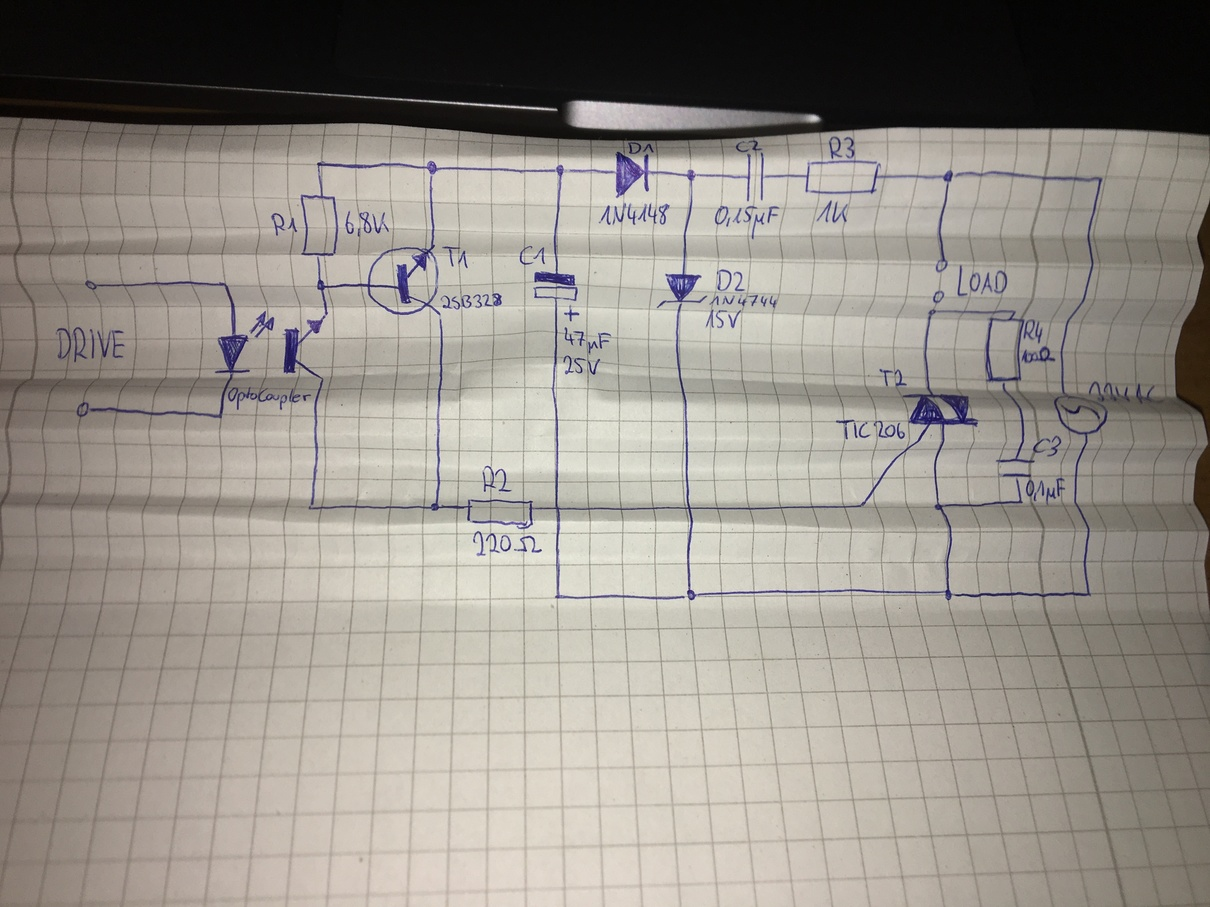capacitor.polarized: (531, 268, 583, 323)
capacitor.unpolarized: (743, 152, 768, 204), (994, 455, 1036, 479)
crossover: (683, 503, 697, 514), (550, 504, 564, 514)
diode: (654, 271, 710, 310), (614, 150, 651, 200)
junction: (681, 585, 703, 602), (423, 159, 441, 178), (940, 168, 959, 185), (552, 163, 571, 179), (684, 167, 701, 184), (941, 588, 958, 602), (428, 500, 443, 514), (315, 278, 329, 293), (932, 502, 947, 513), (552, 590, 564, 603), (218, 279, 232, 290), (214, 410, 226, 420), (926, 308, 939, 317), (314, 159, 324, 170), (307, 501, 316, 512), (856, 501, 867, 510), (1095, 174, 1105, 183), (1009, 308, 1019, 316), (1016, 497, 1025, 505), (1085, 590, 1094, 598)
optocoupler: (212, 309, 331, 382)
resistor: (804, 158, 882, 196), (984, 317, 1026, 385), (298, 192, 340, 260), (465, 497, 535, 531)
terminal: (75, 400, 94, 419), (930, 288, 945, 312), (934, 257, 949, 274), (84, 279, 101, 291)
text: (53, 323, 127, 364), (712, 203, 780, 241), (226, 385, 312, 411), (1087, 379, 1163, 406), (471, 529, 543, 557), (596, 201, 673, 227), (956, 263, 1010, 298), (834, 418, 907, 441), (562, 325, 612, 356), (343, 208, 393, 238), (440, 291, 504, 311), (1025, 477, 1067, 505), (709, 293, 779, 309), (812, 198, 851, 226), (480, 464, 513, 495), (560, 354, 604, 377), (439, 244, 472, 271), (715, 267, 749, 293), (704, 309, 744, 330), (269, 211, 299, 237), (827, 134, 857, 160), (1032, 434, 1062, 459), (1020, 345, 1057, 365), (518, 243, 547, 268), (877, 367, 909, 389), (1022, 318, 1045, 344), (627, 140, 656, 155), (734, 139, 764, 153)
transistor: (366, 244, 443, 320)
triac: (901, 392, 981, 433)
voltage.dc_ac: (1053, 391, 1110, 436)
